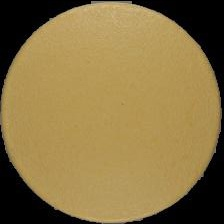65162-514: (0, 0, 224, 224)
